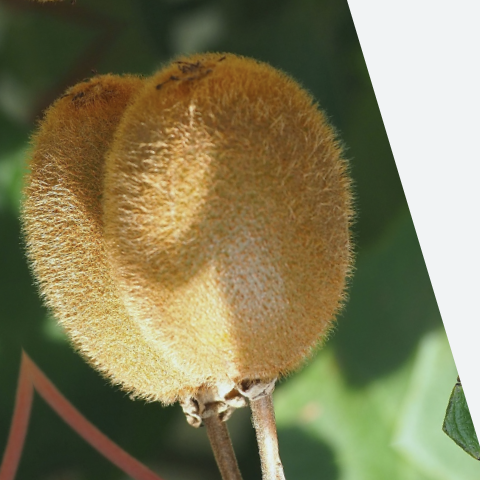kiwi: (51, 0, 409, 438)
